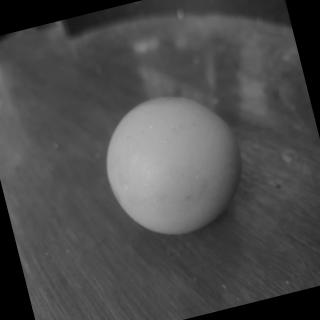Telur: (92, 78, 264, 252)
